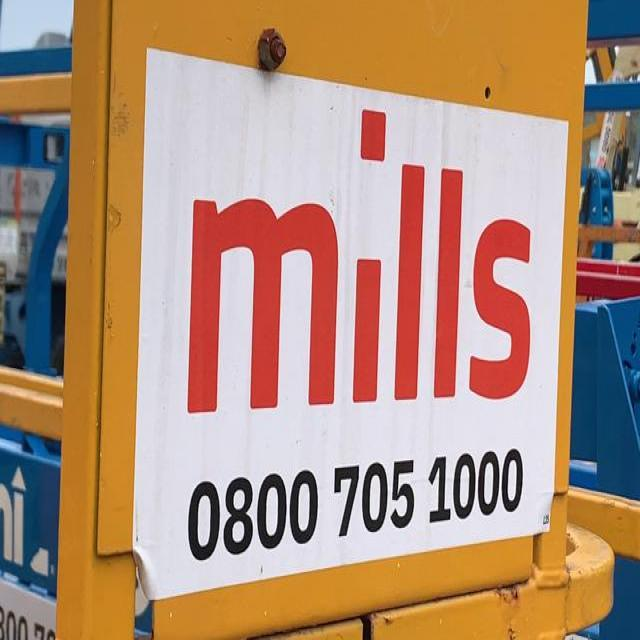Adesivos: (121, 30, 580, 615)
